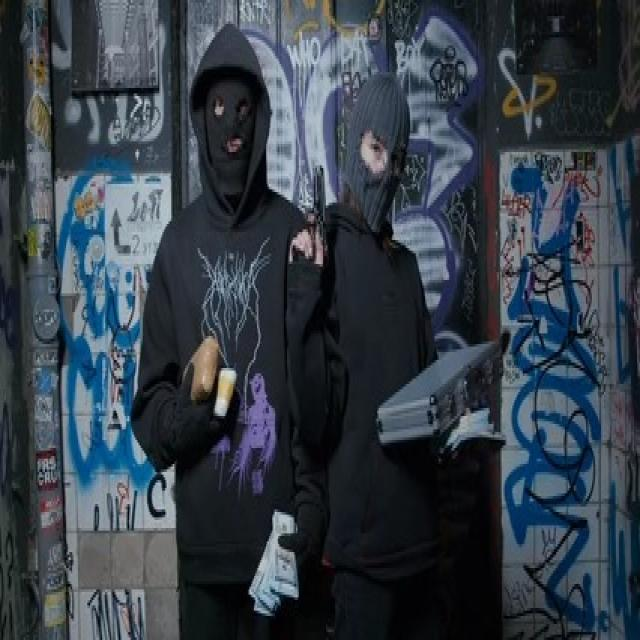Gun_Holder: (288, 166, 347, 311)
Person: (136, 21, 325, 619), (293, 55, 476, 640)
